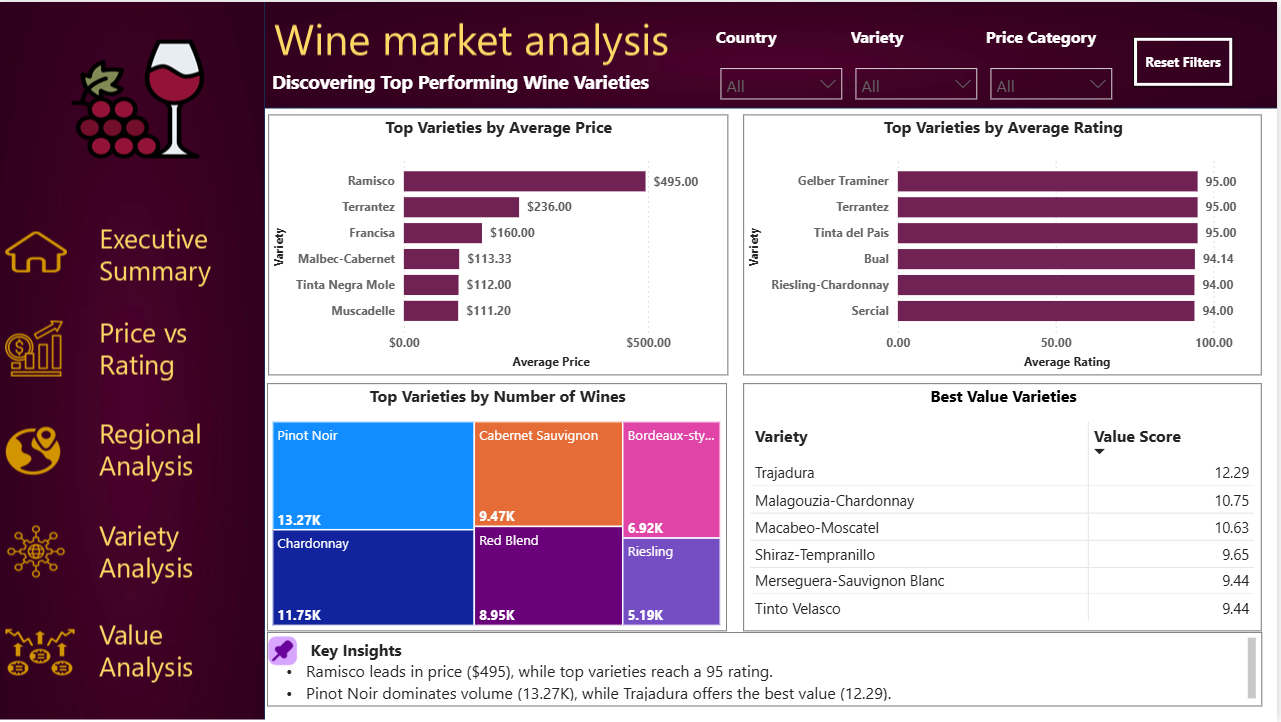

The dashboard page shown, as its layout file describes it:
{"tool":"powerbi","page":{"name":"Variety Analysis","canvas":[1280,720],"ordinal":3},"visuals":[{"type":"actionButton","title":"Reset Filters","box":[1136.7,34.8,100.2,50.1],"z":0},{"type":"slicer","title":"Country","fields":{"Values":["wine_data wine_insight.country"]},"box":[719,24.1,135.1,77.2],"z":1000},{"type":"slicer","title":"Variety","fields":{"Values":["wine_data wine_insight.variety"]},"box":[854.2,24.1,135.1,77.2],"z":2000},{"type":"slicer","title":"Price Category","fields":{"Values":["wine_data wine_insight.price_category"]},"box":[989.3,24.1,135.1,77.2],"z":3000},{"type":"clusteredBarChart","title":"Top  Varieties by Average Rating","fields":{"Category":["wine_data wine_insight.variety"],"Y":["Avg(wine_data wine_insight.points)"]},"box":[746.5,112.5,518.7,260.7],"z":4000},{"type":"clusteredBarChart","title":" Top Varieties by Average  Price","fields":{"Y":["Avg(wine_data wine_insight.price)"],"Category":["wine_data wine_insight.variety"]},"box":[271.4,112.2,459.7,260.6],"z":5000},{"type":"treemap","title":"Top Varieties by Number of Wines","fields":{"Group":["wine_data wine_insight.variety"],"Values":["CountNonNull(wine_data wine_insight.id)"]},"box":[270.3,381.5,459.7,248.4],"z":6000},{"type":"tableEx","title":"Best Value Varieties","fields":{"Values":["wine_data wine_insight.variety","wine_data wine_insight.Value_Scored"]},"box":[746.5,381.5,518.7,248.4],"z":7000},{"type":"textbox","box":[270.3,63.1,414.4,38.4],"z":8000},{"type":"textbox","box":[270.2,629.8,995.3,74.8],"z":9000},{"type":"image","box":[270.2,629.8,31.4,37.4],"z":10000},{"type":"actionButton","box":[0,306.1,268.5,80.7],"z":10001},{"type":"actionButton","box":[0,403.5,268.5,80.7],"z":10002},{"type":"actionButton","box":[0,512,268.5,80.7],"z":10003},{"type":"actionButton","box":[0,610.8,268.5,80.7],"z":10004},{"type":"actionButton","box":[0,214.3,268.5,80.7],"z":10005}]}

Visuals, with their boxes in screenshot pixels (x1, y1, x2, y2), scaled from the page's 1280x720 canvas onto the 1281x722 screenshot:
"Reset Filters" actionButton: bbox(1138, 35, 1238, 85)
"Country" slicer: bbox(720, 24, 855, 102)
"Variety" slicer: bbox(855, 24, 990, 102)
"Price Category" slicer: bbox(990, 24, 1125, 102)
"Top  Varieties by Average Rating" clusteredBarChart: bbox(747, 113, 1266, 374)
" Top Varieties by Average  Price" clusteredBarChart: bbox(272, 113, 732, 374)
"Top Varieties by Number of Wines" treemap: bbox(271, 383, 731, 632)
"Best Value Varieties" tableEx: bbox(747, 383, 1266, 632)
textbox: bbox(271, 63, 685, 102)
textbox: bbox(270, 632, 1266, 707)
image: bbox(270, 632, 302, 669)
actionButton: bbox(0, 307, 269, 388)
actionButton: bbox(0, 405, 269, 486)
actionButton: bbox(0, 513, 269, 594)
actionButton: bbox(0, 612, 269, 693)
actionButton: bbox(0, 215, 269, 296)
